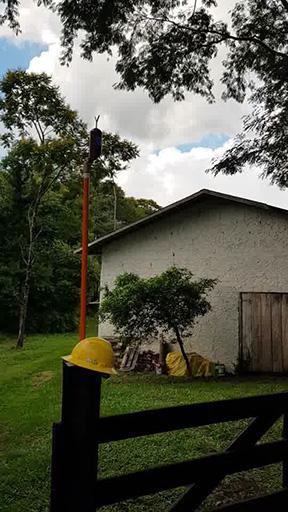Detector_Tensao_Contato: (87, 115, 104, 162)
Vara_Manobra: (77, 162, 92, 341)
